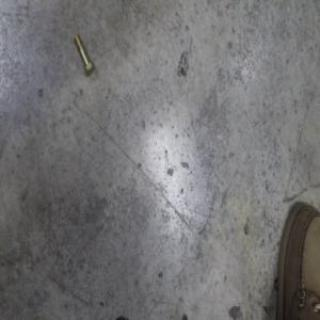Bolttrack_idkeyframe: (71, 33, 93, 79)
